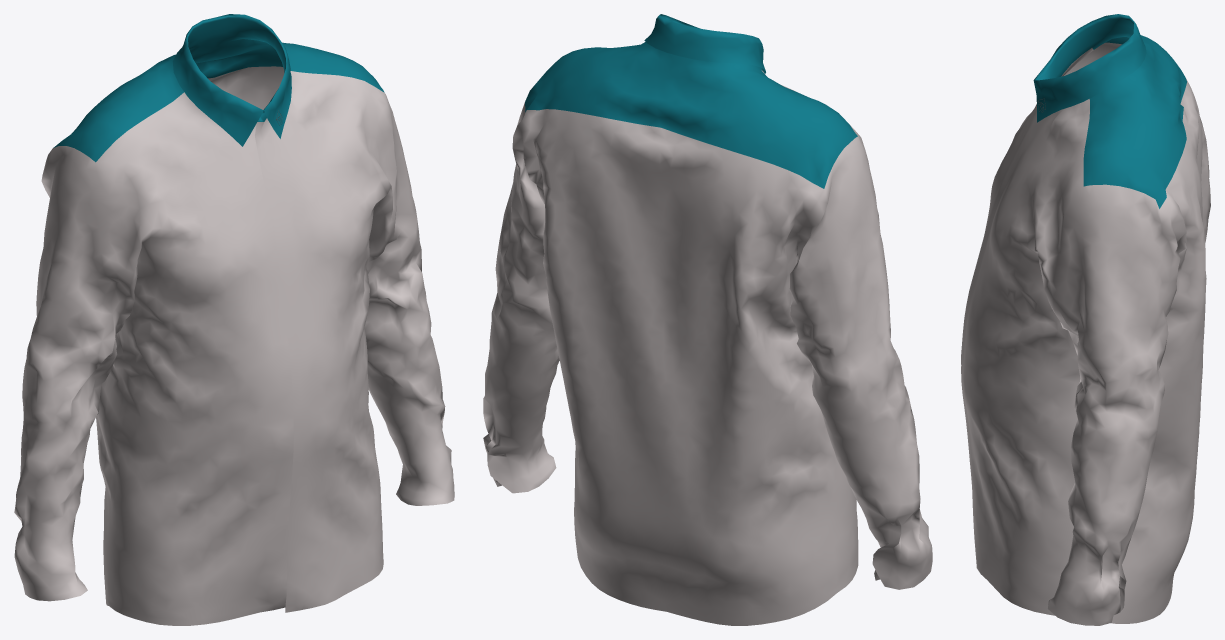
The model's file is male_shirt.glb.
The picture shows the model from 3 angles, left to right: view 1: azimuth 30°, elevation 25°; view 2: azimuth 150°, elevation 25°; view 3: azimuth 270°, elevation 25°; orthographic projection. The views are drawn at different scales.
Parts seen in each view (by area): view 1: Object_8, Object_6; view 2: Object_8, Object_6; view 3: Object_8, Object_6.
Boxes of the visible parts, bbox=[...] form: Object_8: bbox=[14, 66, 454, 625]; Object_6: bbox=[53, 14, 384, 162]; Object_8: bbox=[483, 70, 932, 625]; Object_6: bbox=[525, 14, 857, 188]; Object_8: bbox=[961, 42, 1210, 625]; Object_6: bbox=[1033, 14, 1186, 208].
Bounding box in the file's own units: 1189 × 1489 × 608.
